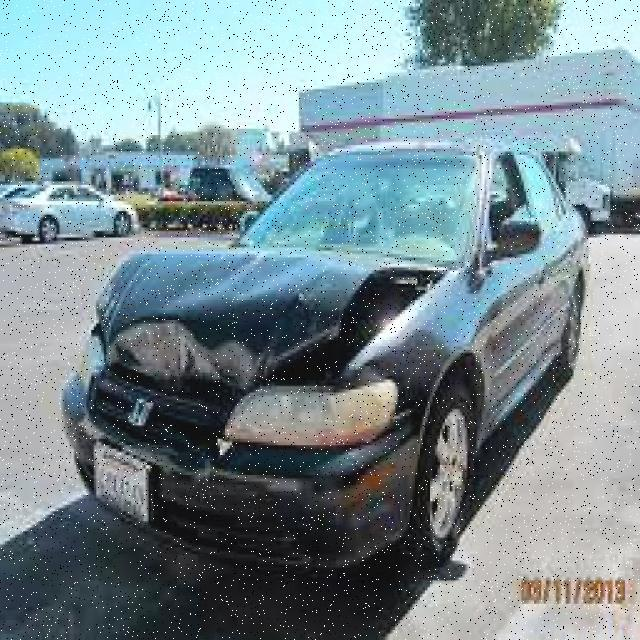car damage: (94, 245, 449, 423)
